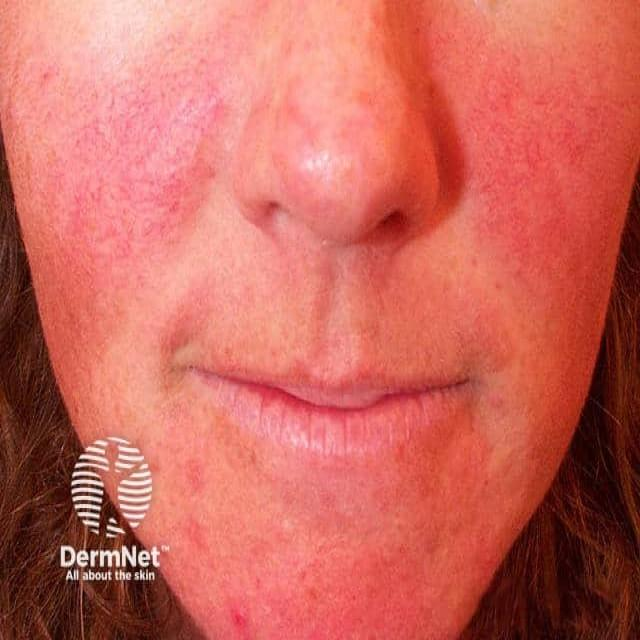Acne: (21, 47, 235, 217)
